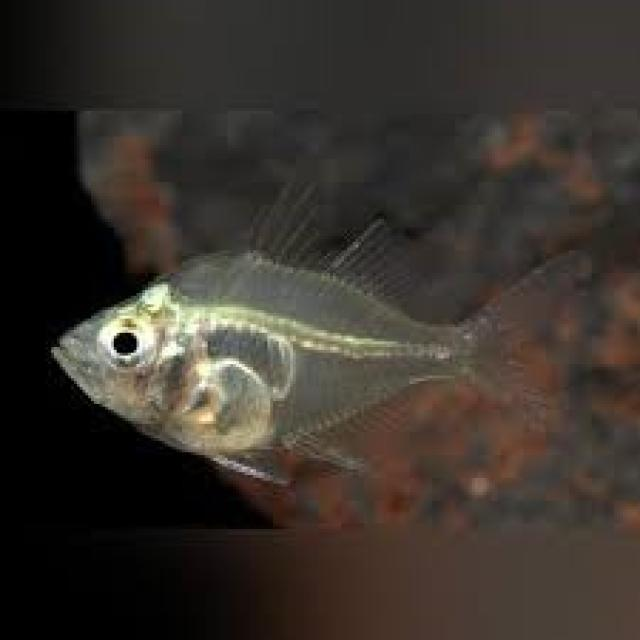Glass-Perchlet: (17, 166, 617, 514)
